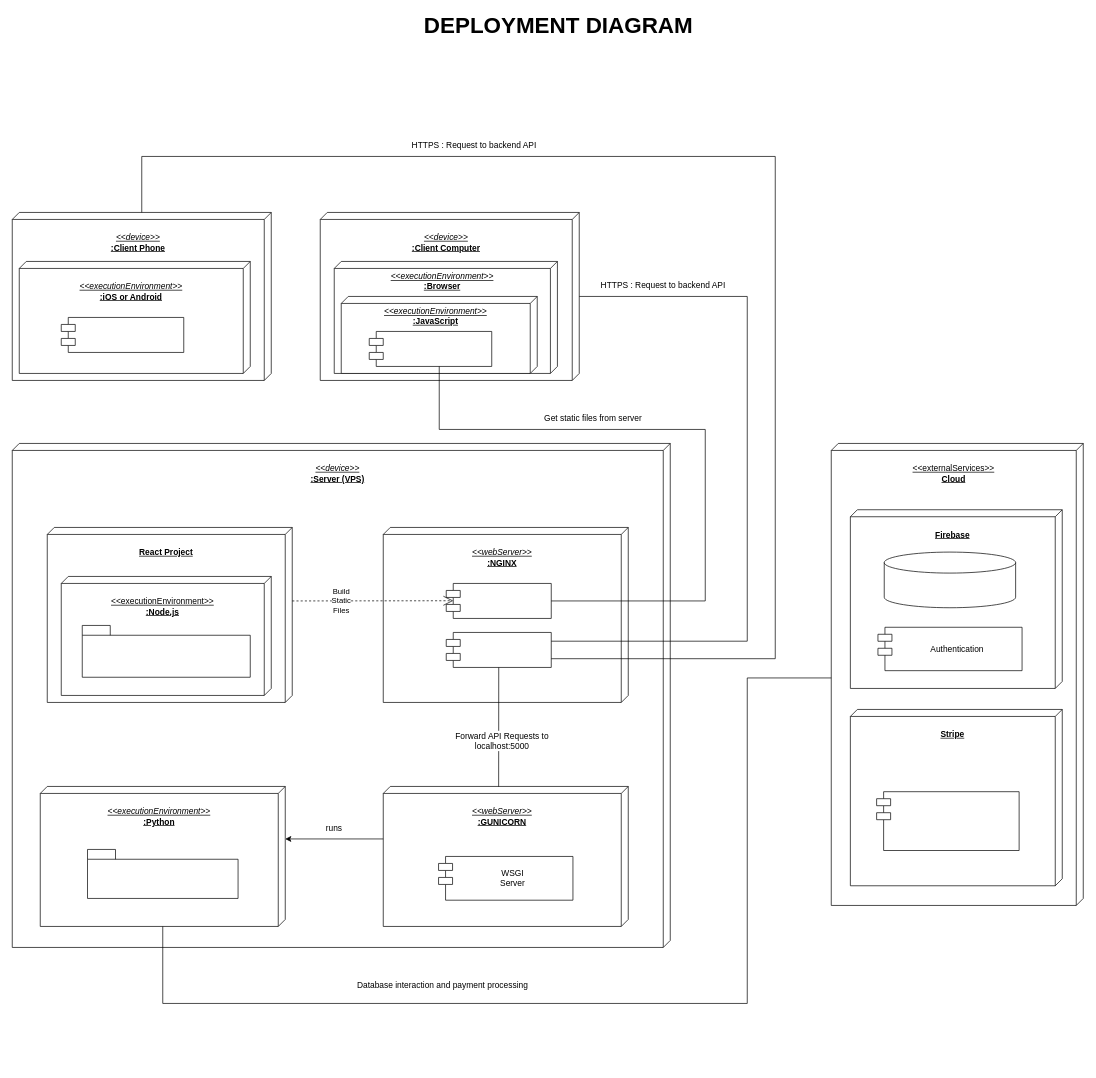
This 1096x1078 diagram has some shape labels left out. Each missing label, with the centre of its shape:
"Donneur Mobile Application" goes at [122,334].
"Donneur Web Application" goes at [430,348].
"donneur-backend" goes at [162,873].
"donneur-webapp" goes at [166,651].
"Payment API" goes at [947,820].
"React Build Files" goes at [498,600].
"Real-Time Database" goes at [950,579].
"Reverse Proxy" goes at [498,649].
